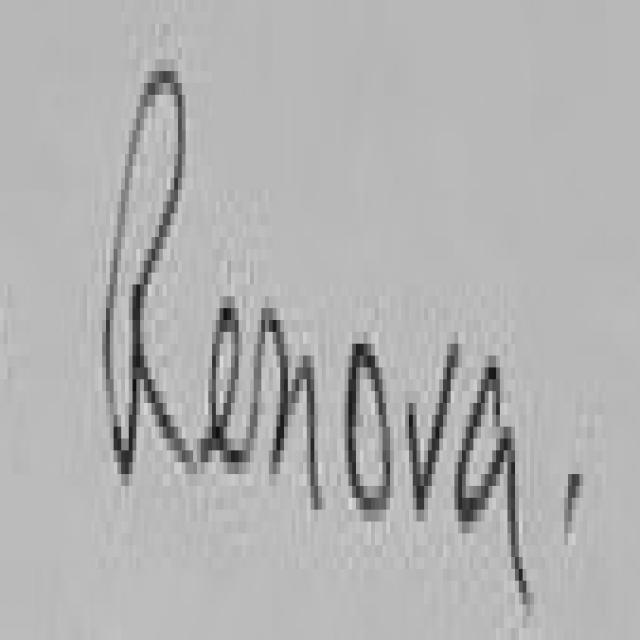R: (106, 71, 197, 486)
a: (458, 367, 530, 599)
e: (201, 296, 254, 474)
n: (254, 308, 322, 510)
o: (348, 344, 394, 510)
v: (409, 344, 462, 504)
